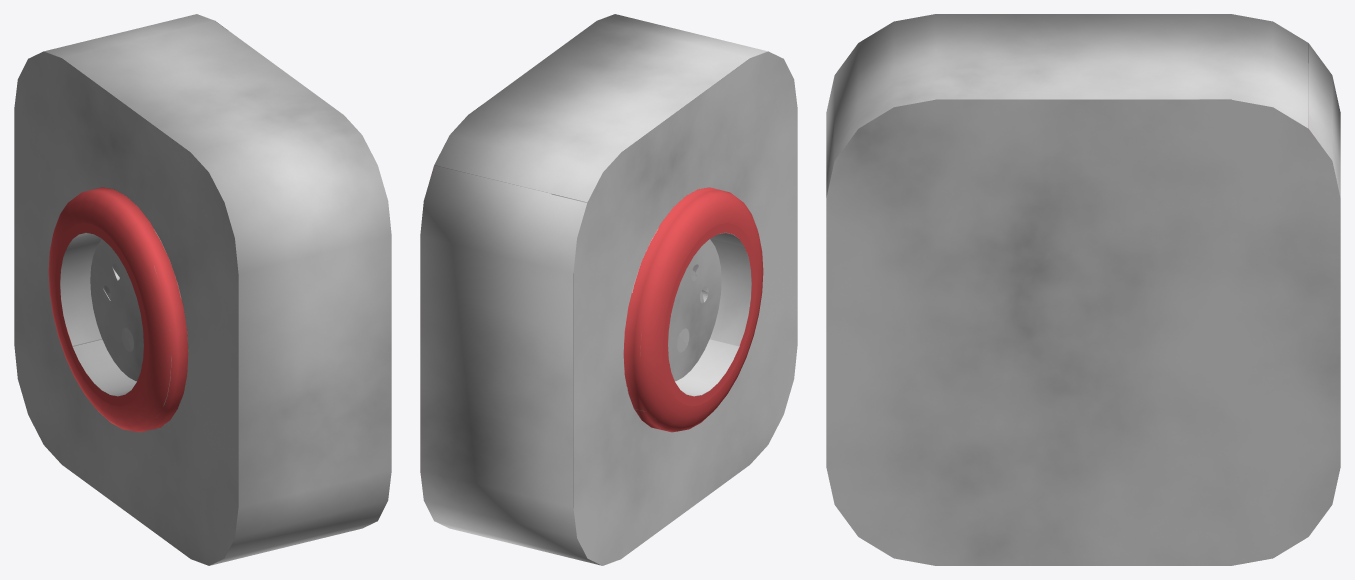
Rendered from PowerPort.fbx.
3 renders of one model, left to right at view 1: azimuth 30°, elevation 25°; view 2: azimuth 150°, elevation 25°; view 3: azimuth 270°, elevation 25°, orthographic. The views are drawn at different scales.
Visible parts, largest first — view 1: Cube; view 2: Cube; view 3: Cube.
Part boxes in pixels (x1,y1,x2,y2): Cube: (14, 14, 391, 565); Cube: (420, 14, 797, 565); Cube: (826, 14, 1340, 565).
Bounding box in the file's own units: 232 × 507 × 507.
